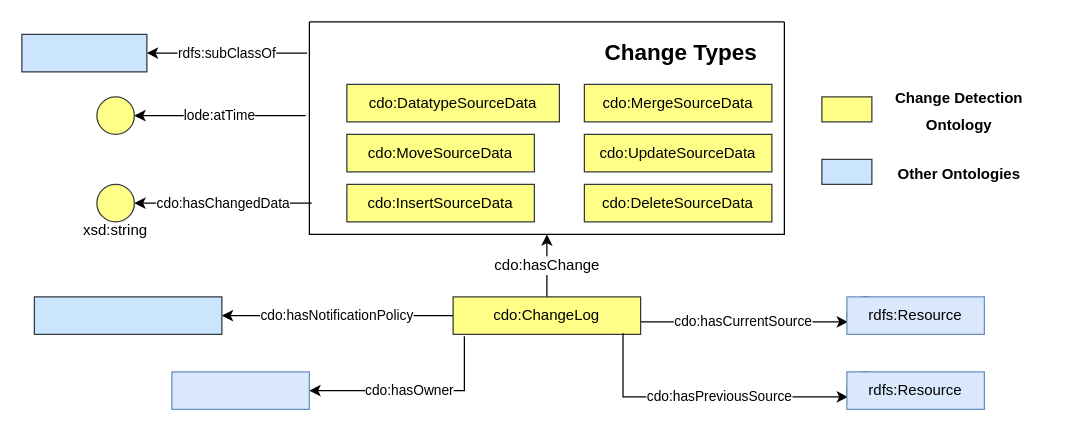
This 1069x431 diagram has some shape labels left out. Each missing label, with the centre of its shape:
dul:Agent: the point at 240,390
lode:Event: the point at 84,52
rei-policy:Policy: the point at 127,315
xsd:dateTime: the point at 115,115
